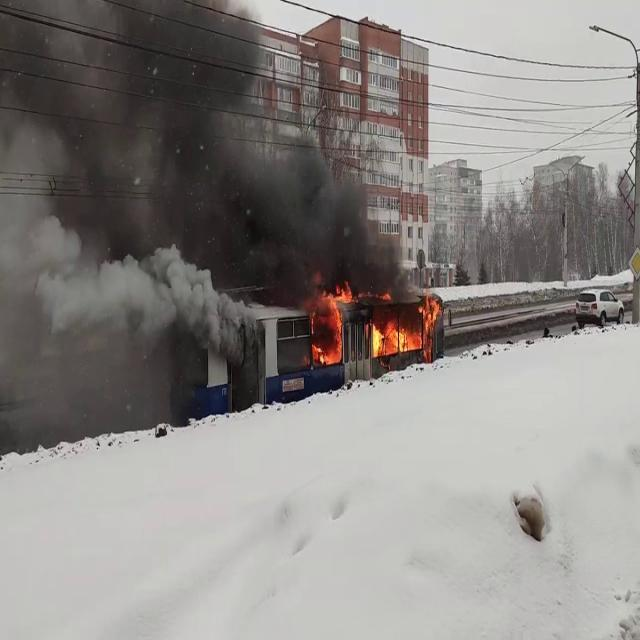Fire: (367, 298, 443, 358), (309, 280, 351, 366)
Smoke: (0, 1, 410, 310), (0, 0, 252, 360)
